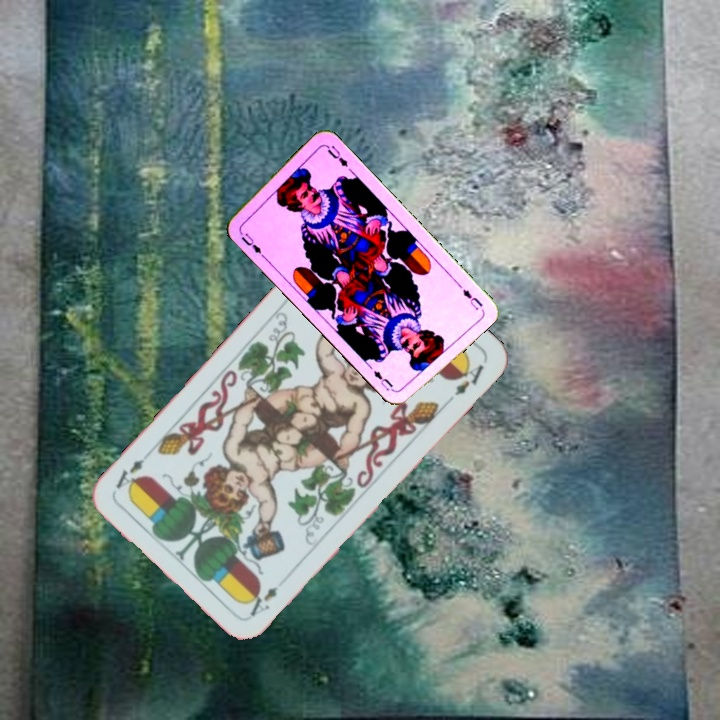EA: (244, 582, 281, 620)
EU: (235, 225, 266, 259), (459, 285, 485, 313)
